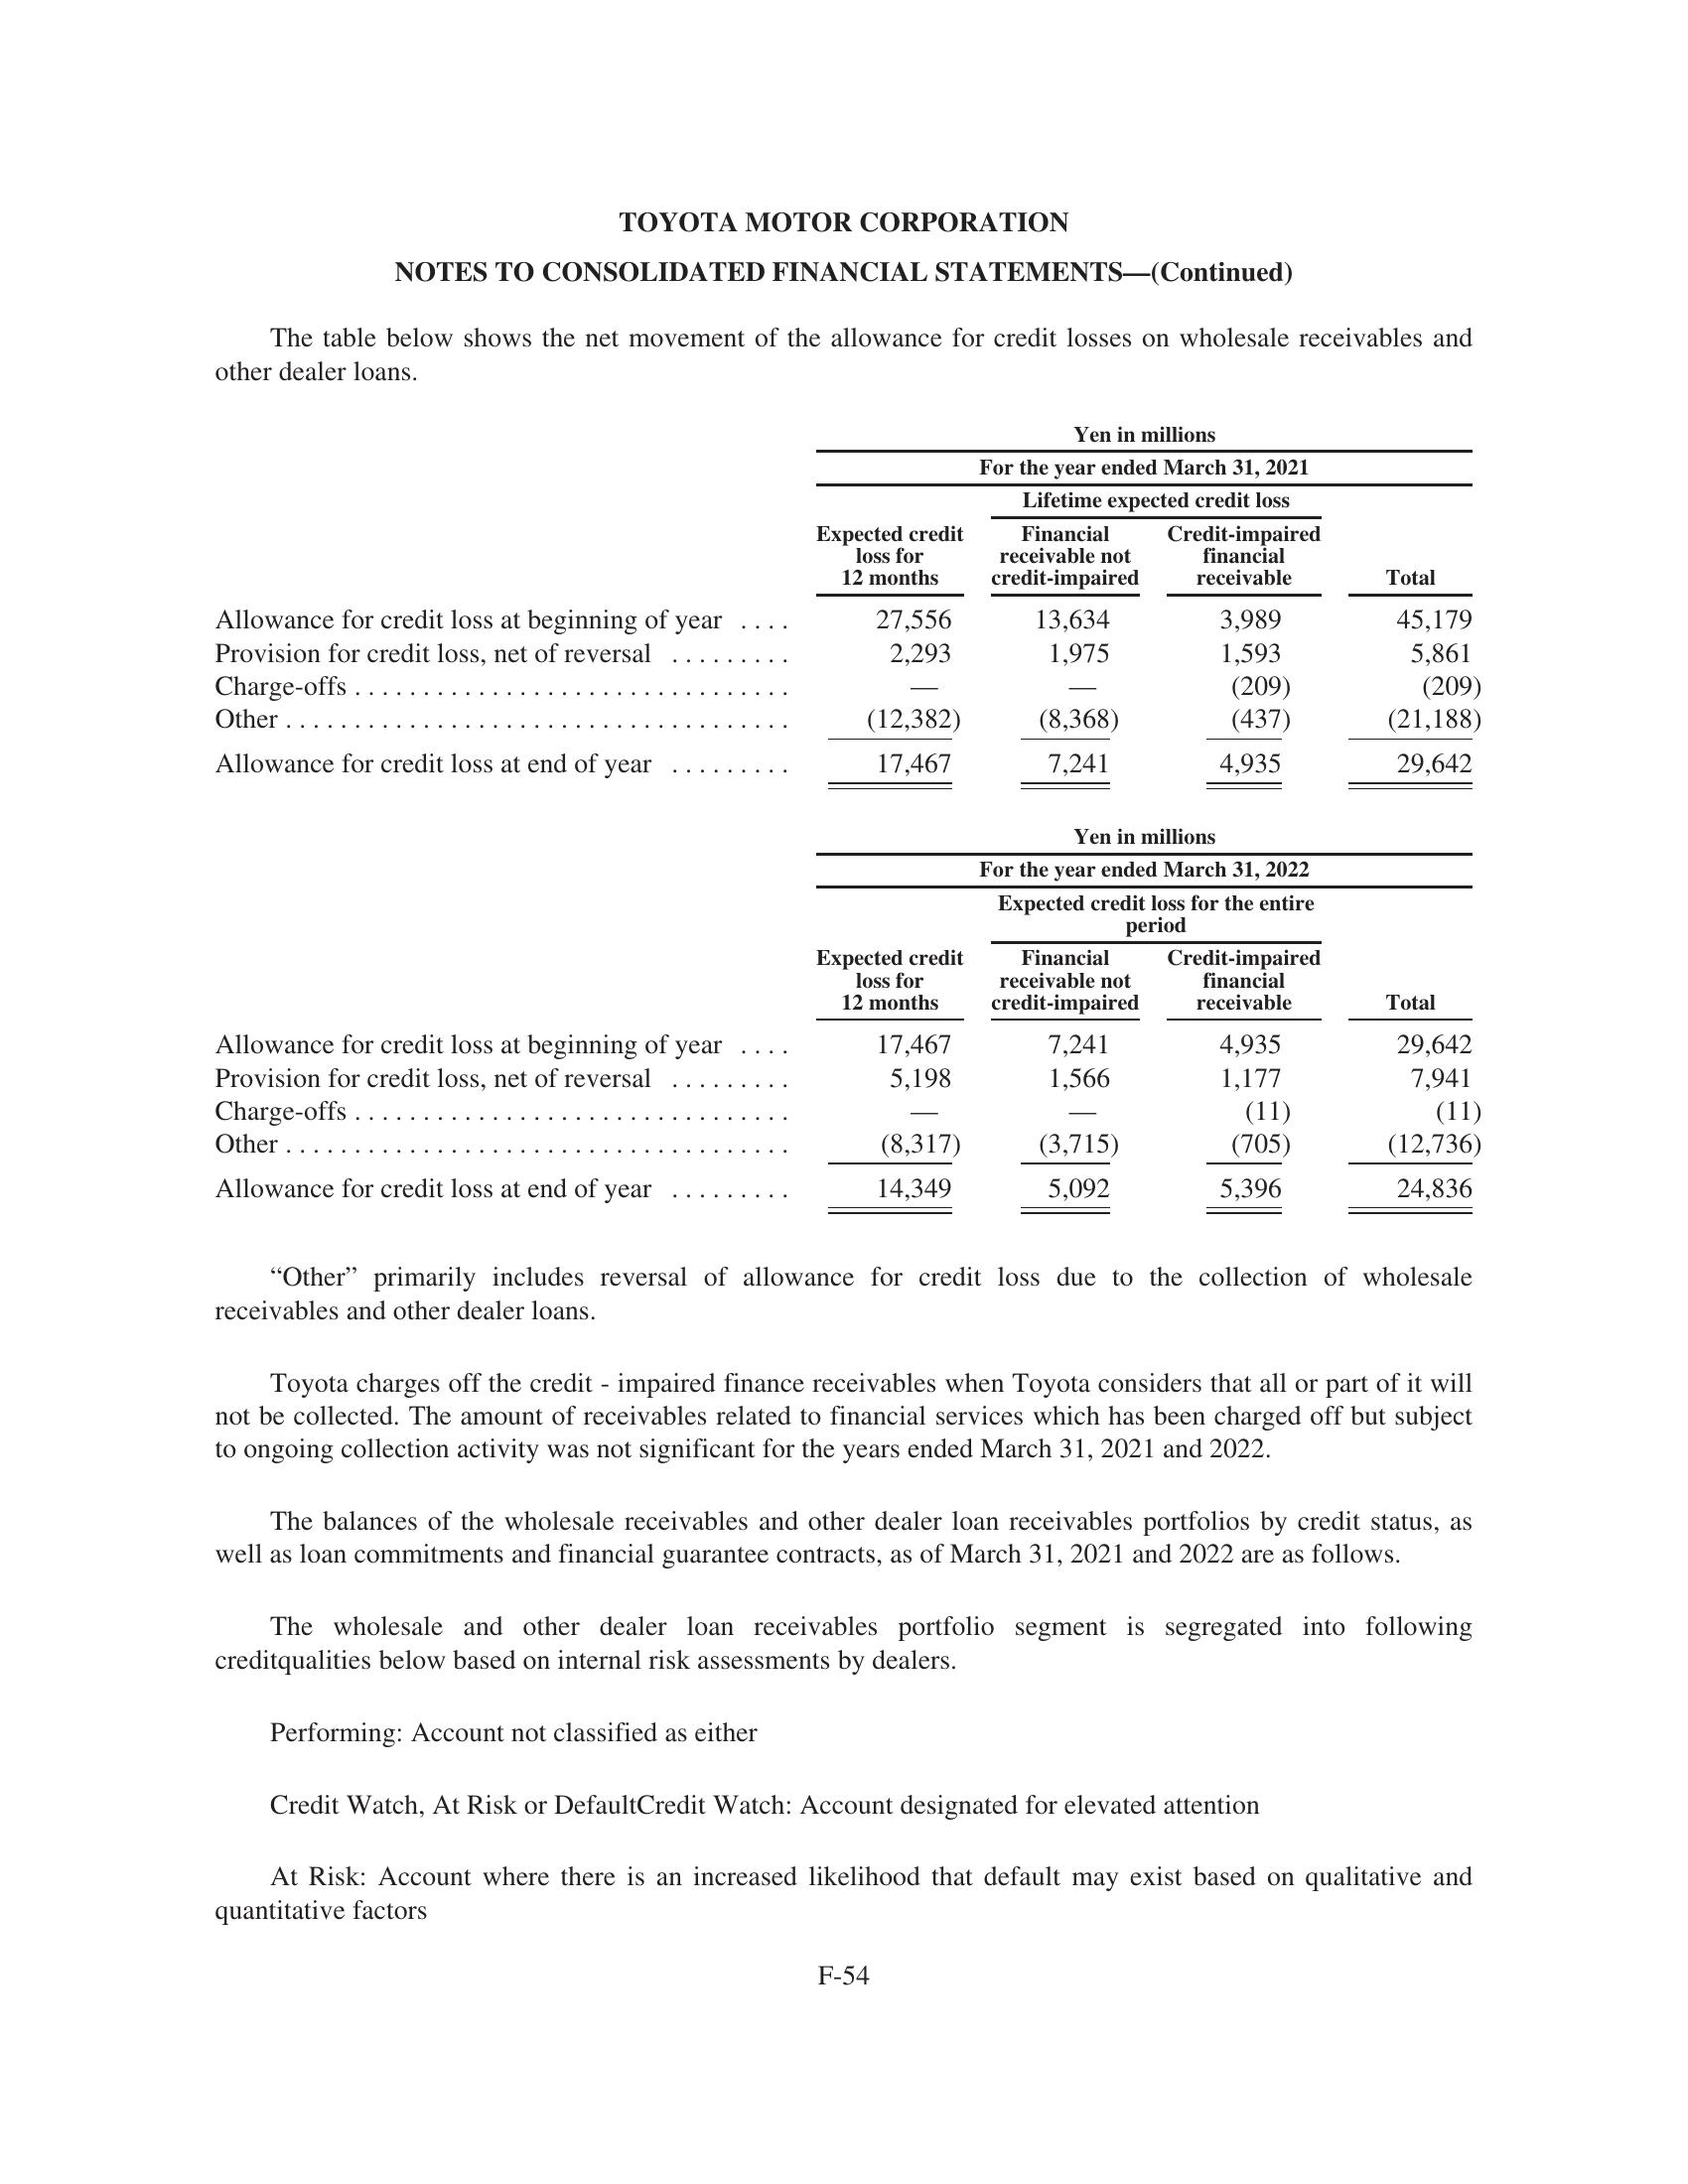Footer: (0, 1954, 1688, 2184)
Header: (0, 0, 1688, 167)
Table: (179, 814, 1512, 1218), (170, 401, 1525, 787)
